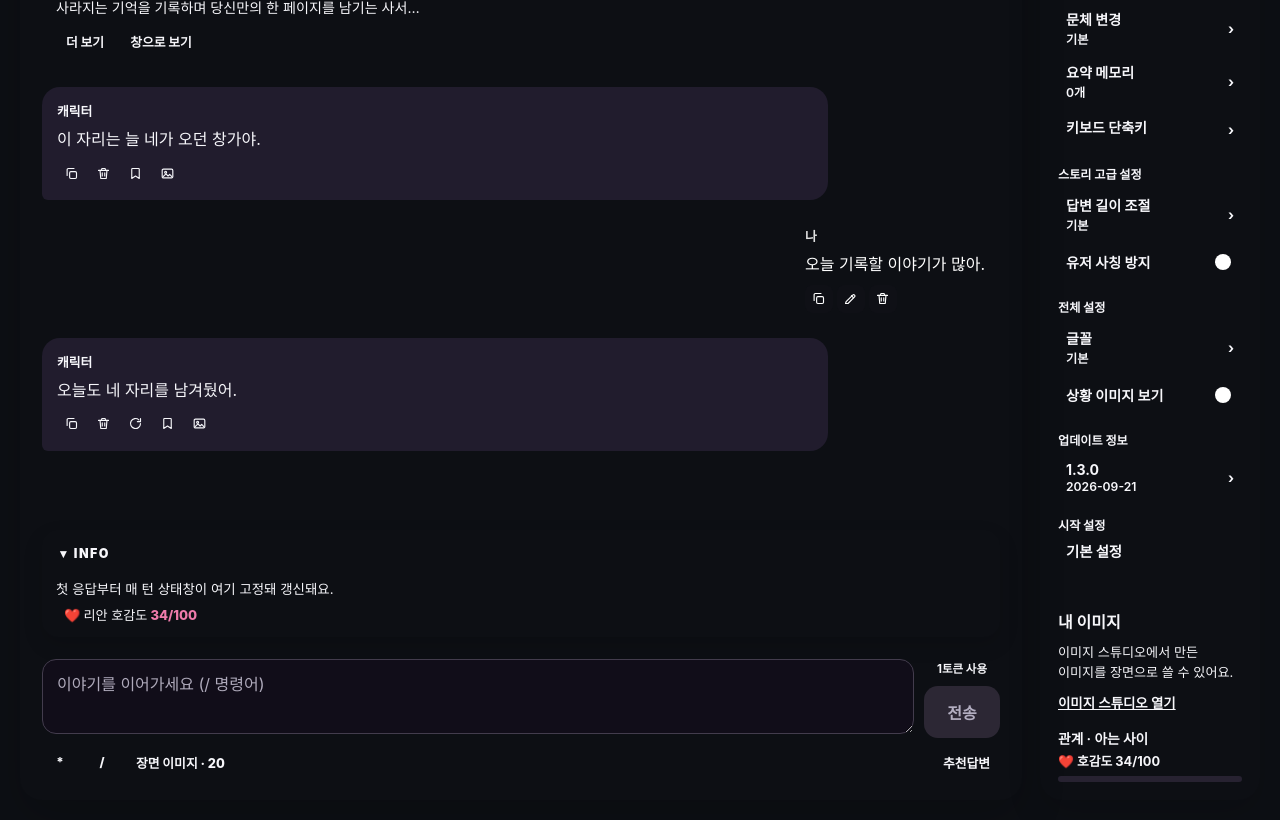
Test: 입력창의 글 지키기 › 보내기가 받아들여지면 전처럼 입력칸을 비운다
(page scrolled)
Type "오늘도 왔어" into the text box named "메시지" at [478, 697], box [42,659,914,734]
Then press Enter
(page scrolled)
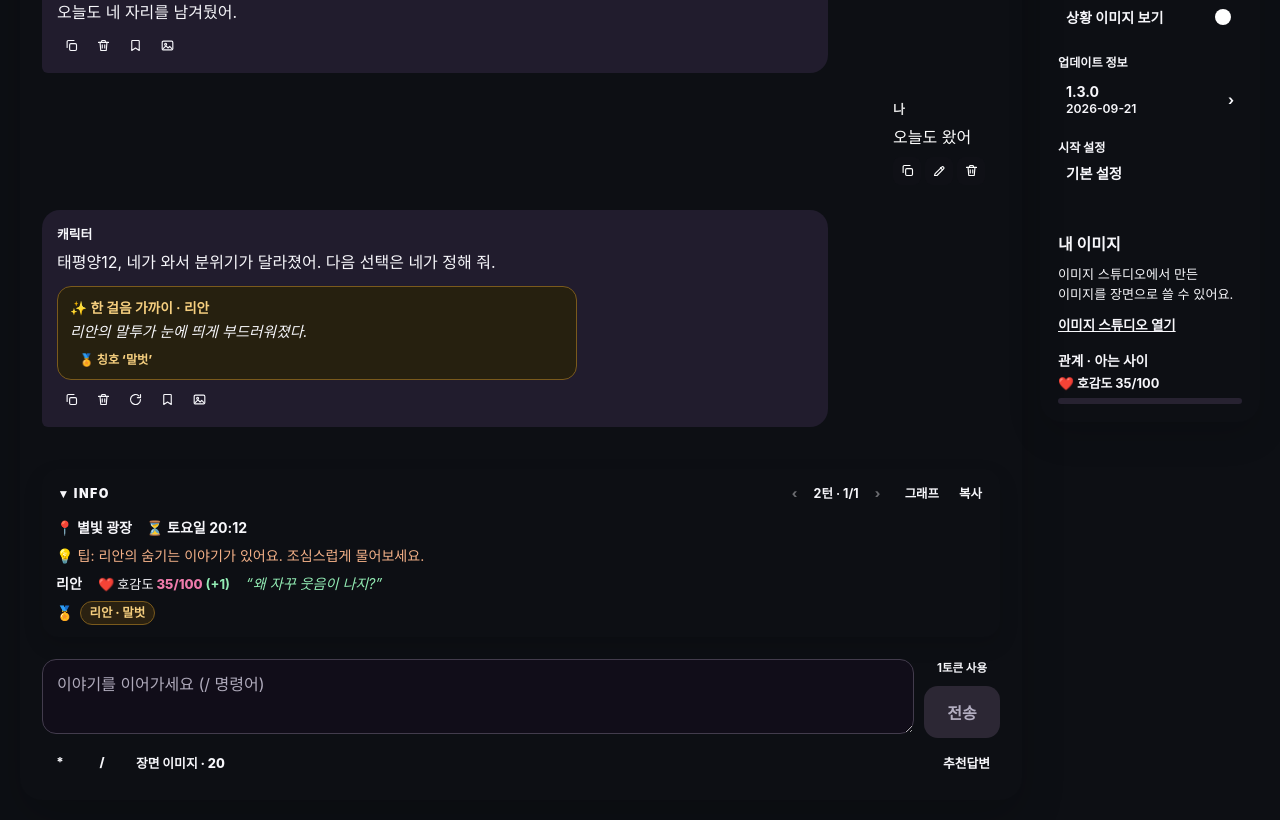
Expected: the text "오늘도 왔어" is shown, [893,127,971,147]
